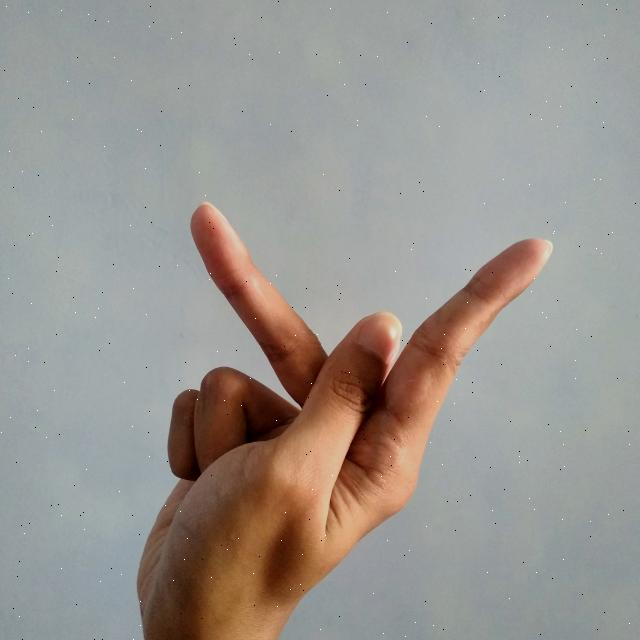K: (132, 197, 559, 640)
